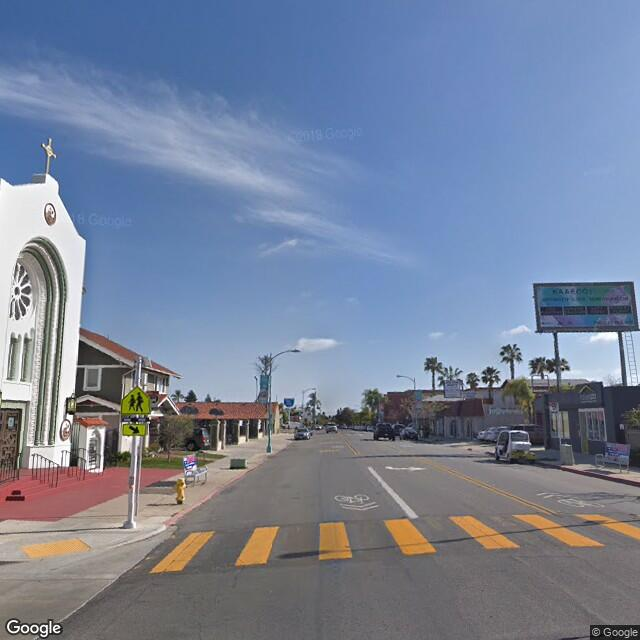road line: (353, 453, 422, 526)
